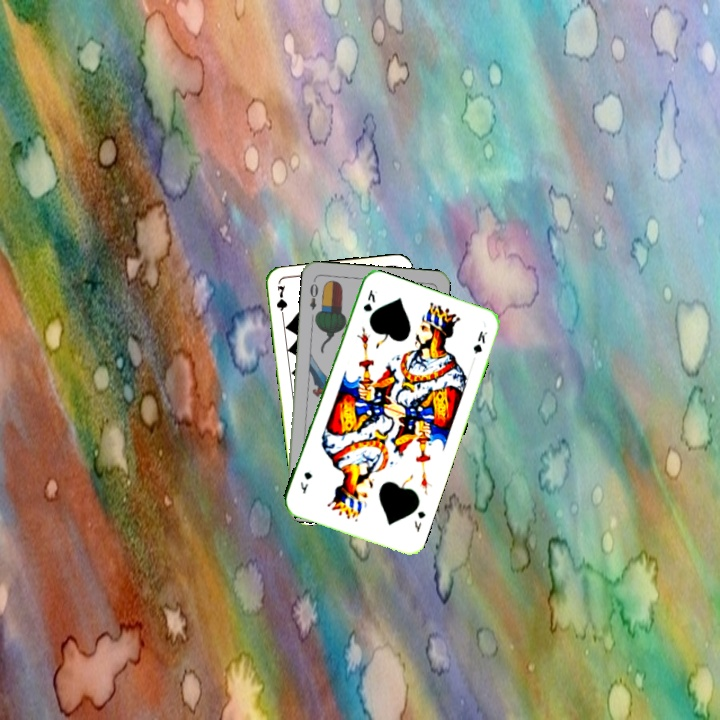EO: (305, 280, 321, 312)
G7: (273, 281, 290, 322)
GK: (359, 285, 380, 314), (410, 507, 428, 535)
